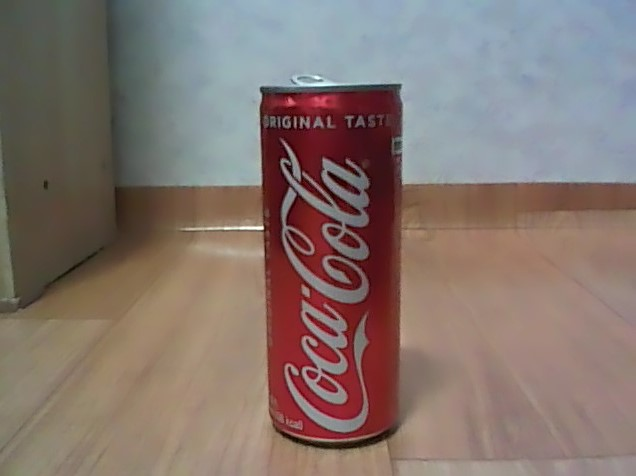Can: (251, 68, 408, 454)
